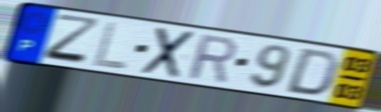9: (246, 43, 292, 91)
D: (282, 47, 342, 98)
L: (91, 20, 130, 72)
R: (186, 33, 237, 86)
X: (138, 25, 198, 80)
Z: (41, 12, 104, 67)
